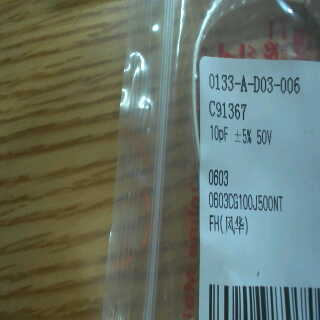10pF: (207, 121, 232, 146)
